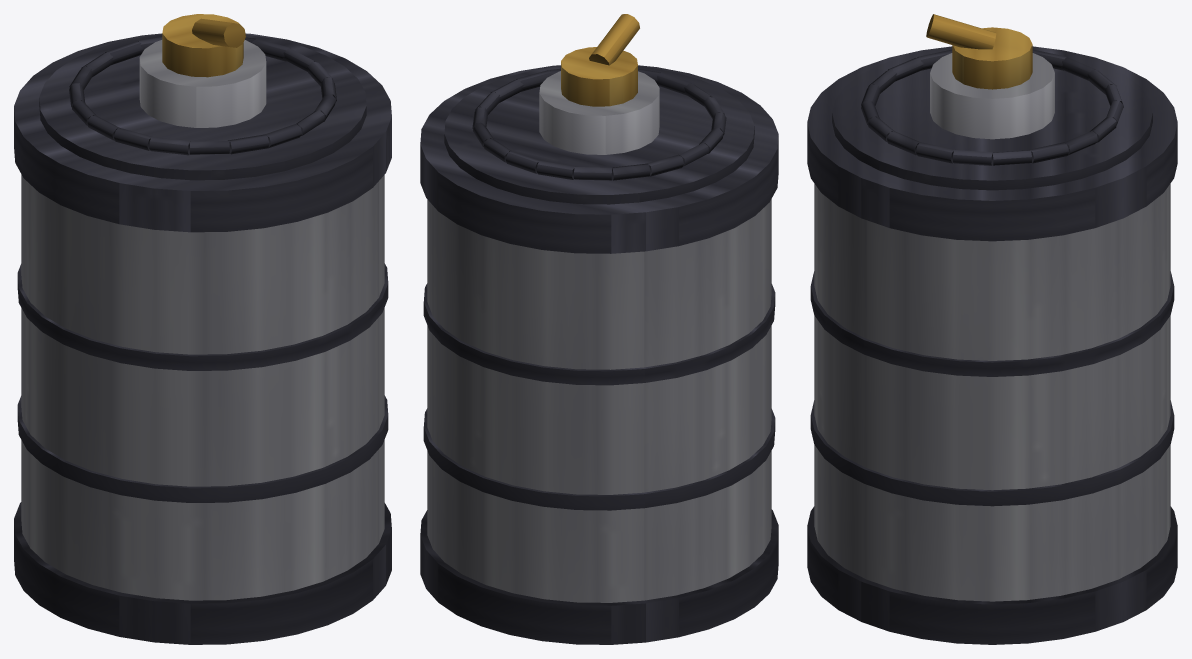
Rendered from keg.glb.
3 views of the same model, side by side, from view 1: azimuth 30°, elevation 25°; view 2: azimuth 150°, elevation 25°; view 3: azimuth 270°, elevation 25° (orthographic). The views are drawn at different scales.
Visible parts, largest first — view 1: keg; view 2: keg; view 3: keg.
Boxes of the visible parts, x1=… form: keg: x1=14, y1=14, x2=391, y2=644; keg: x1=420, y1=14, x2=778, y2=644; keg: x1=807, y1=14, x2=1177, y2=644.
Size of the model in its own units: 0.416 by 0.6833 by 0.416.
3 materials, 3 textured.
